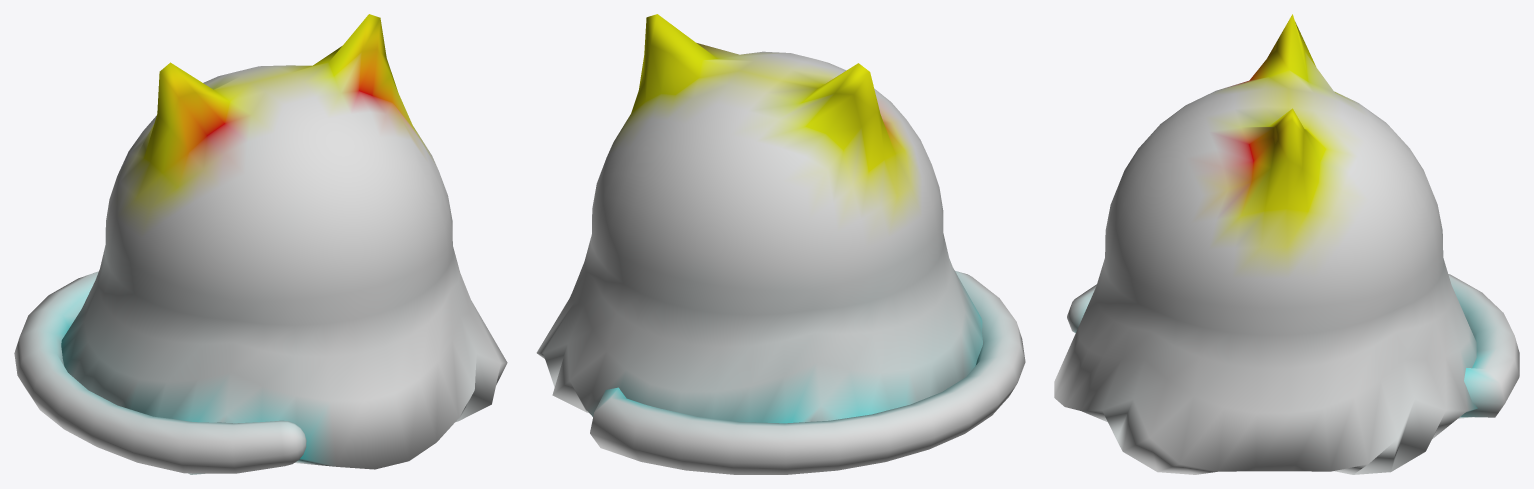
The model's file is cat_obake_curl_lo.glb.
The picture shows the model from 3 angles, left to right: view 1: azimuth 30°, elevation 25°; view 2: azimuth 150°, elevation 25°; view 3: azimuth 270°, elevation 25°; orthographic projection. The views are drawn at different scales.
Visible parts, largest first — view 1: Body, Tail; view 2: Body, Tail; view 3: Body, Tail.
Boxes of the visible parts, box(x1,y1,x2,y2) form: Body: box(61, 14, 507, 474); Tail: box(14, 271, 306, 473); Body: box(536, 14, 982, 423); Tail: box(590, 271, 1025, 474); Body: box(1054, 14, 1477, 474); Tail: box(1067, 274, 1519, 418).
Size of the model in its own units: 1.36 by 1.12 by 1.37.
